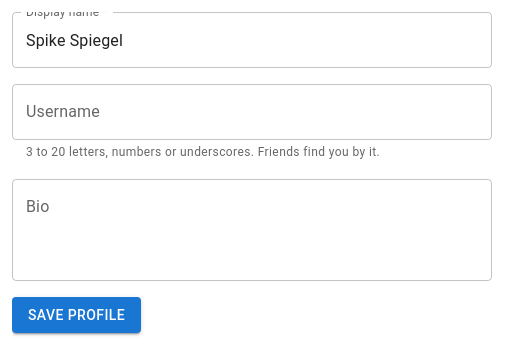
ProfileForm › leaves the username out while it is empty
Type "hi" into the text box labelled "Bio".
click(252, 230); type("hi")  # box [26,195,478,264]
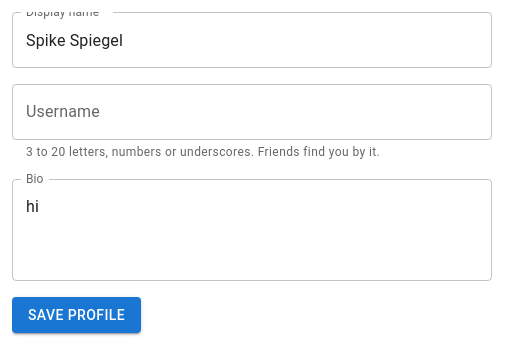
Click the button "Save profile".
click(76, 315)  # box [12,297,141,333]
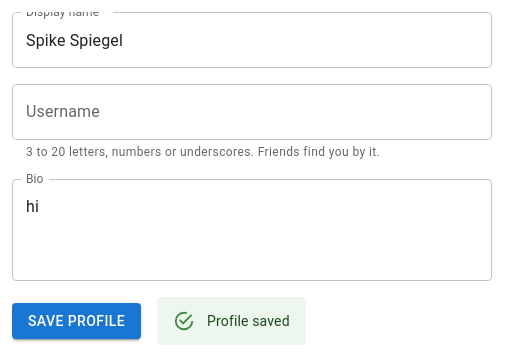
Result: the text "Profile saved" is shown at [207,313,290,329]
